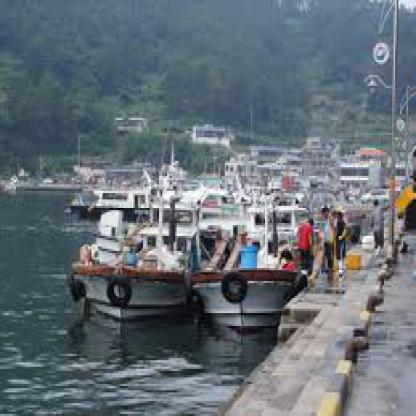fish-b: (66, 206, 199, 324), (184, 214, 312, 335)
